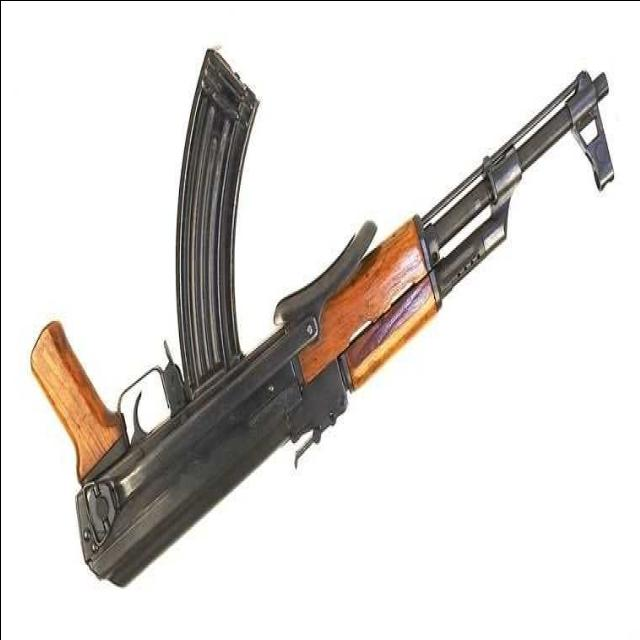heavyweapon: (24, 8, 610, 610)
